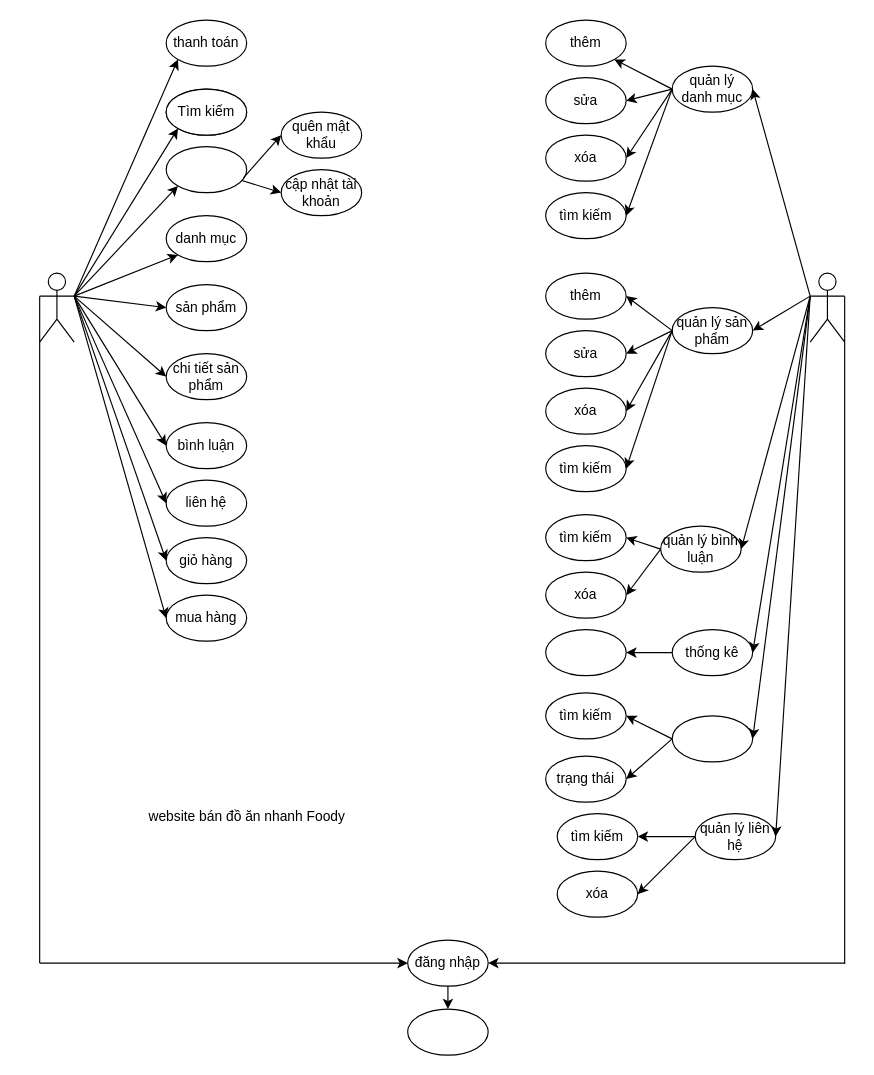
Some shapes in this 874 by 1075 pixel diagram are drawn without their labels. Each missing label, with the centre of its shape:
Admin: (x=827, y=307)
biểu đồ: (x=585, y=652)
Người dùng: (x=56, y=307)
tài khoản: (x=206, y=169)
đăng xuất: (x=447, y=1031)
đơn hàng: (x=712, y=738)
